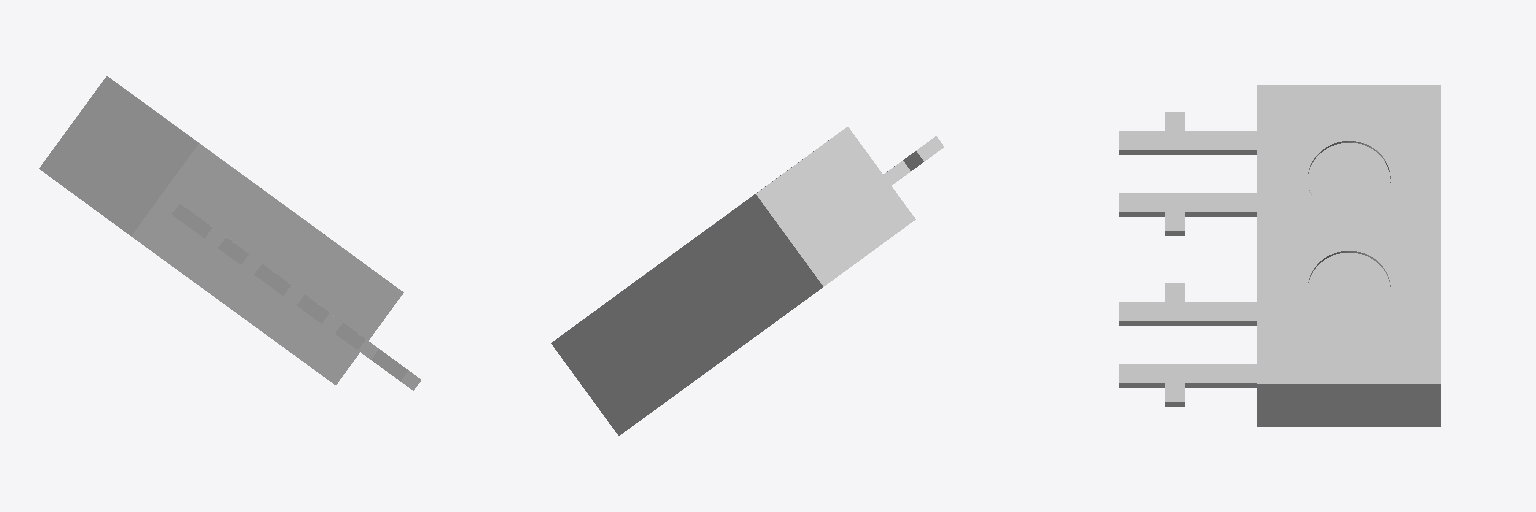
File: IRIDIAepuck3D_Nov2019_Proximity1.obj
3 renders of one model, left to right at view 1: azimuth 30°, elevation 25°; view 2: azimuth 150°, elevation 25°; view 3: azimuth 270°, elevation 25°, orthographic.
Visible parts, largest first — view 1: brep_81; view 2: brep_81; view 3: brep_81.
Boxes of the visible parts, x1,y1,x2,y2 form: brep_81: [39, 76, 420, 390]; brep_81: [551, 127, 943, 435]; brep_81: [1119, 85, 1440, 426].
Bounding box in the file's own units: 0.0068 × 0.0066 × 0.007.